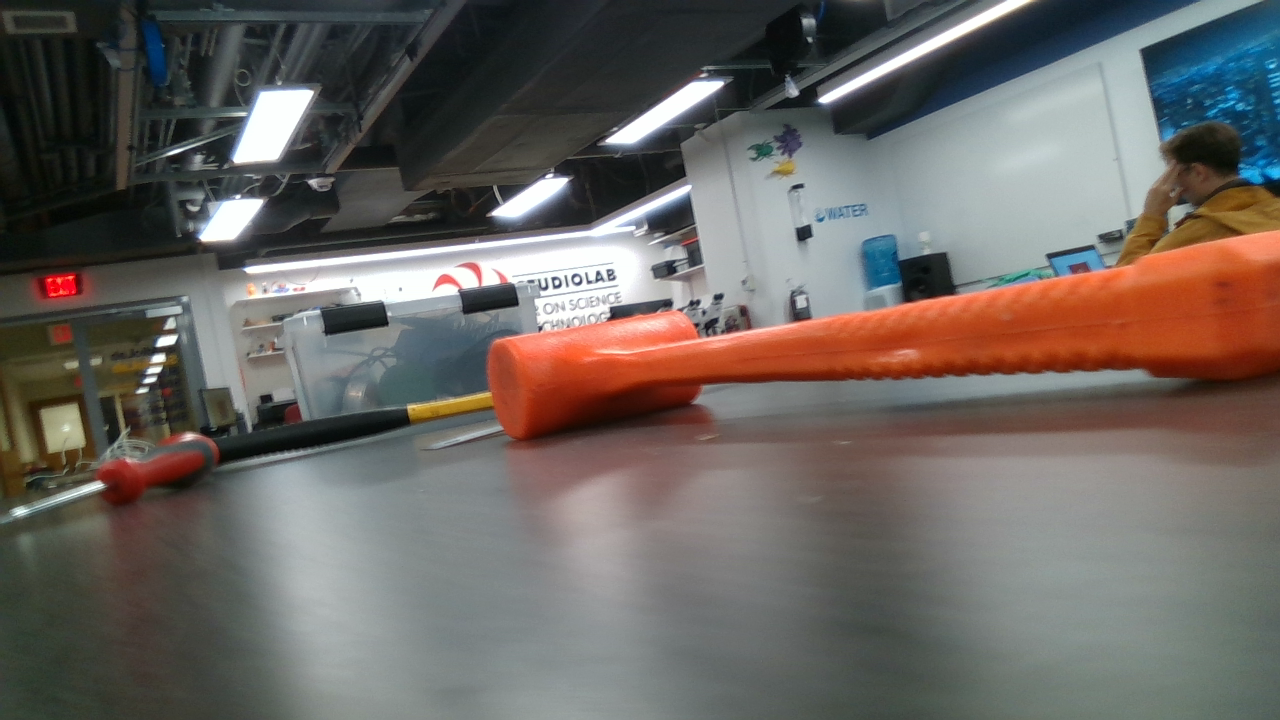Orange Hammer: (489, 218, 1280, 440)
